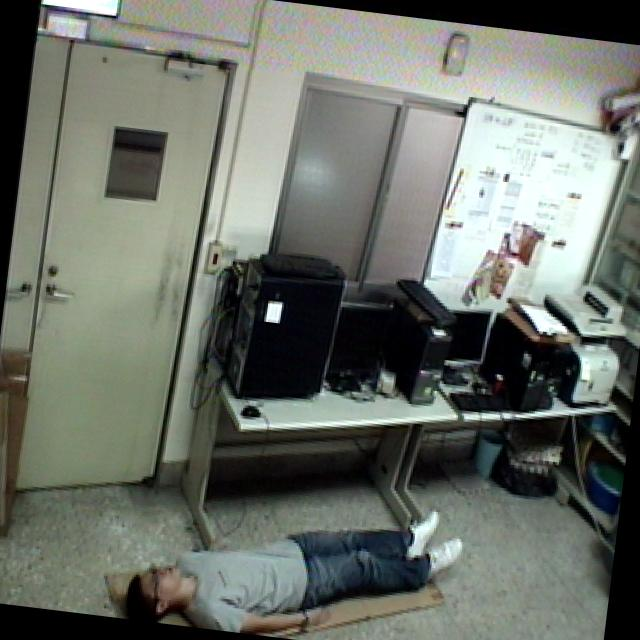lie: (116, 453, 483, 640)
